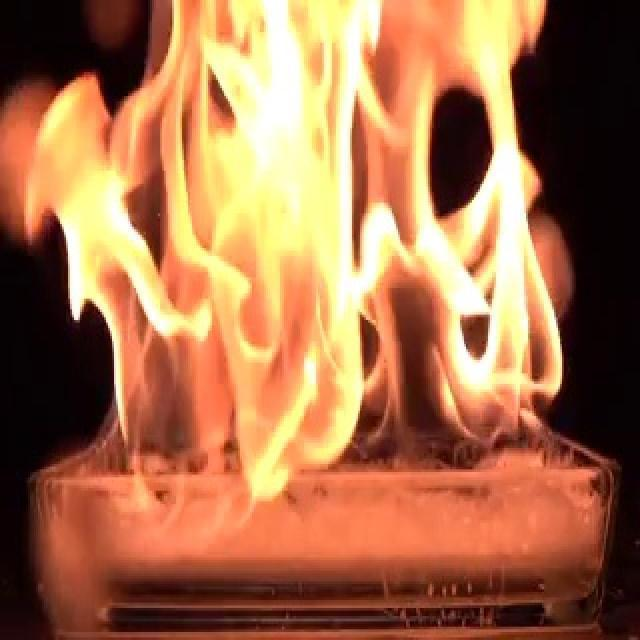smoke: (18, 0, 570, 512)
